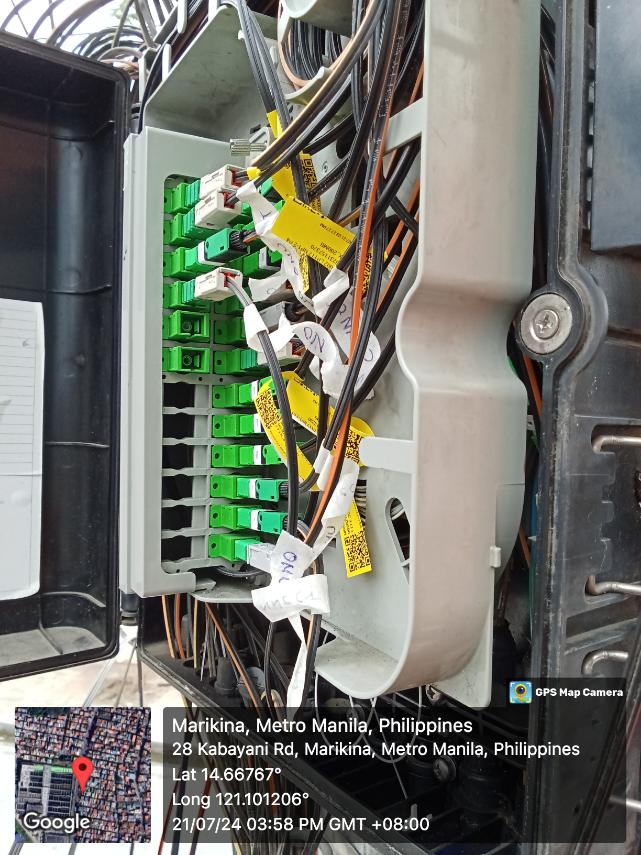no dust cap: (179, 348, 210, 372), (179, 312, 209, 336)
no port: (160, 536, 208, 563), (160, 504, 208, 529), (161, 476, 209, 500), (161, 444, 209, 468), (162, 413, 210, 437), (163, 383, 211, 407)
occupied: (181, 183, 245, 241), (185, 157, 254, 209), (183, 222, 250, 274), (243, 231, 305, 278), (241, 162, 296, 213), (182, 263, 243, 307), (233, 539, 296, 581), (242, 299, 306, 340), (243, 198, 298, 244), (241, 334, 307, 371), (238, 507, 305, 539), (241, 271, 297, 309), (238, 371, 296, 407), (238, 403, 296, 438), (237, 476, 295, 506), (240, 443, 306, 469)
